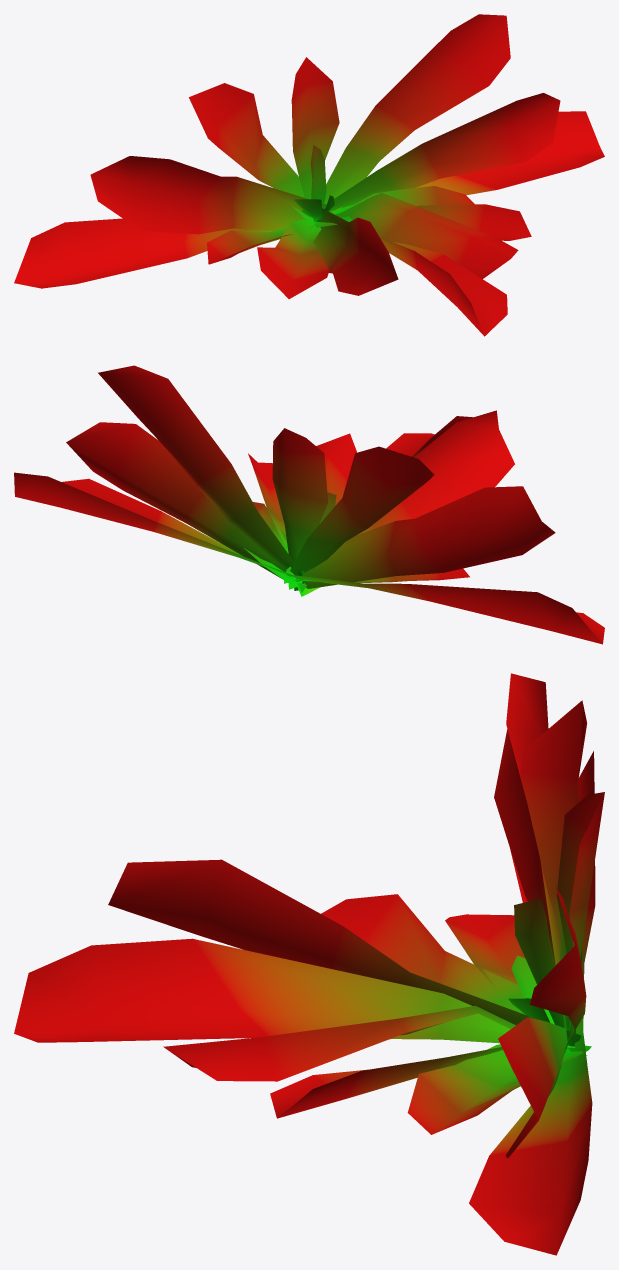
The model's file is Var7_LOD1.fbx.
3 views of the same model, one above another, from view 1: azimuth 30°, elevation 25°; view 2: azimuth 150°, elevation 25°; view 3: azimuth 270°, elevation 25° (orthographic). The views are drawn at different scales.
Visible parts, largest first — view 1: _goct_Var7_LOD1; view 2: _goct_Var7_LOD1; view 3: _goct_Var7_LOD1.
Part boxes in pixels (box(x1,y1,x2,y2)): _goct_Var7_LOD1: box(14, 14, 604, 336); _goct_Var7_LOD1: box(14, 365, 604, 644); _goct_Var7_LOD1: box(14, 673, 604, 1255).
Size of the model in its own units: 39.68 by 11.89 by 21.27.
